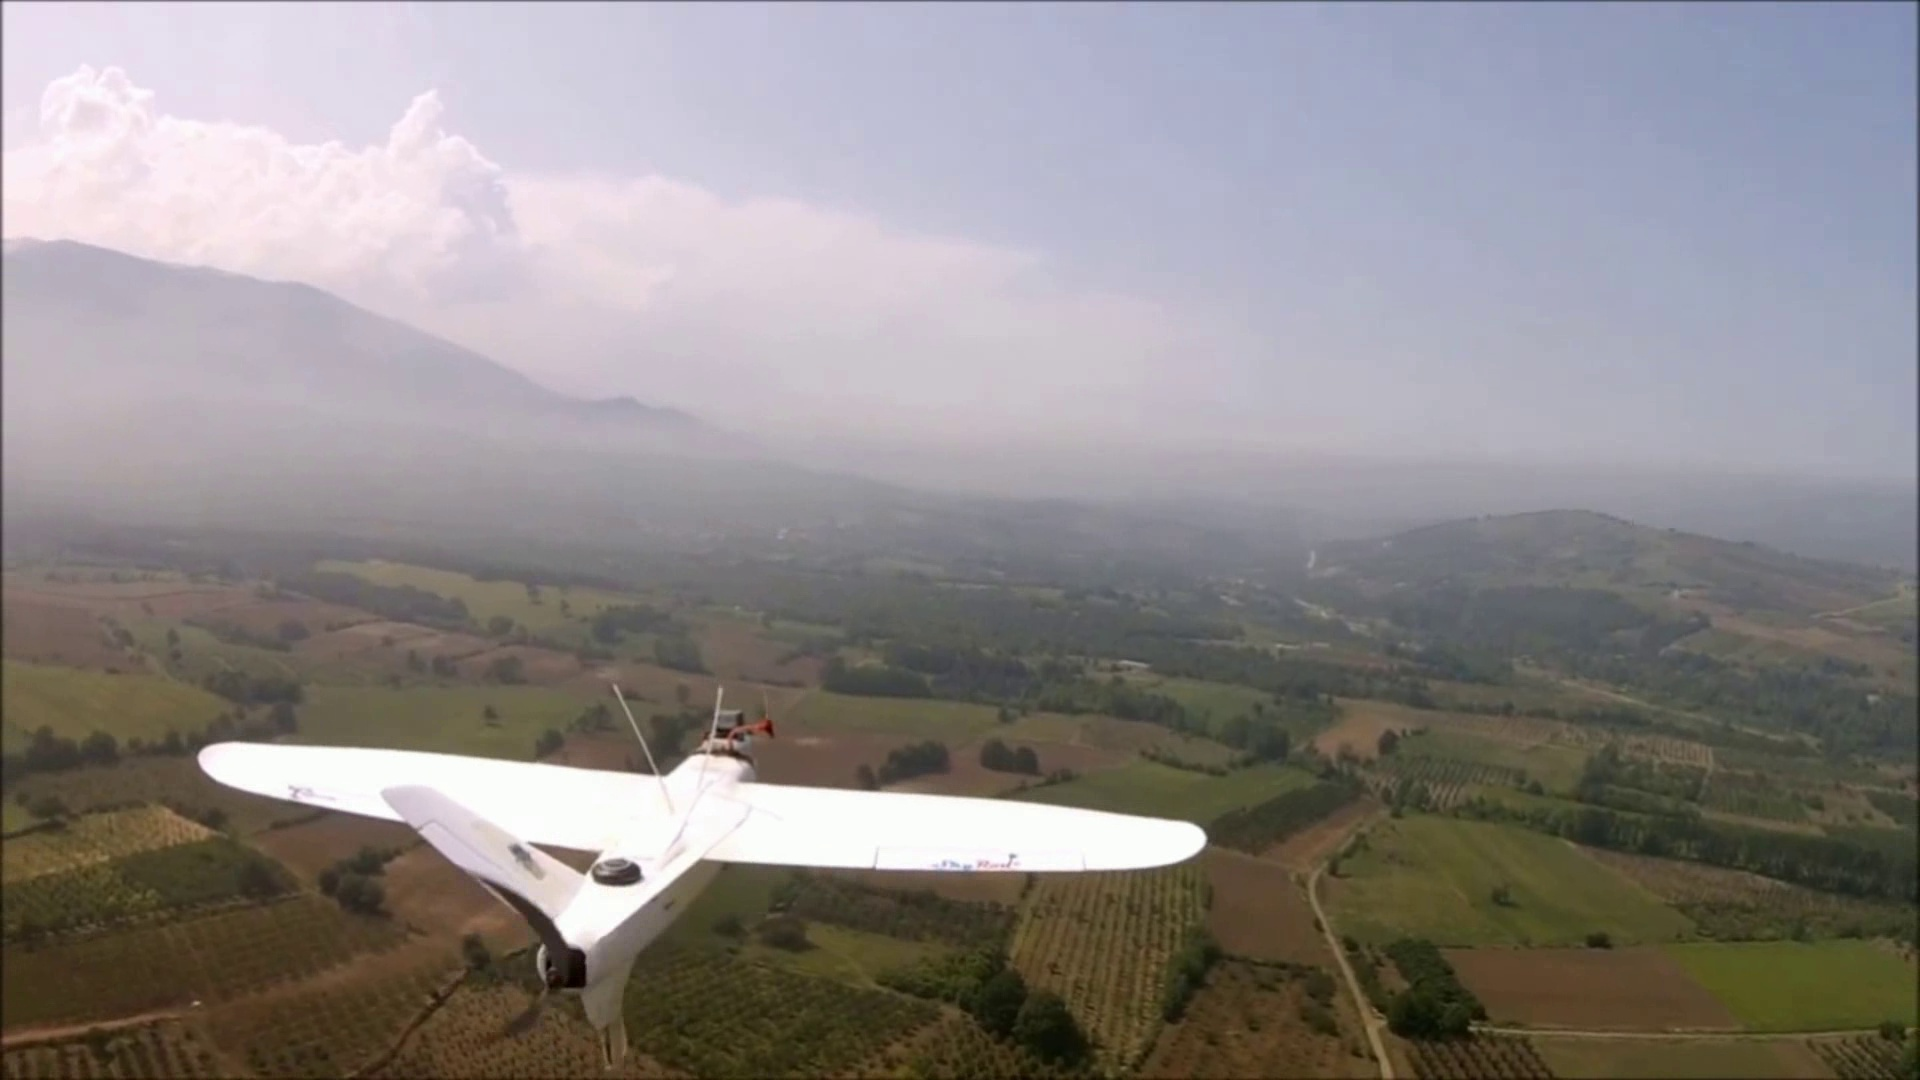airplane: (199, 692, 1213, 1065)
